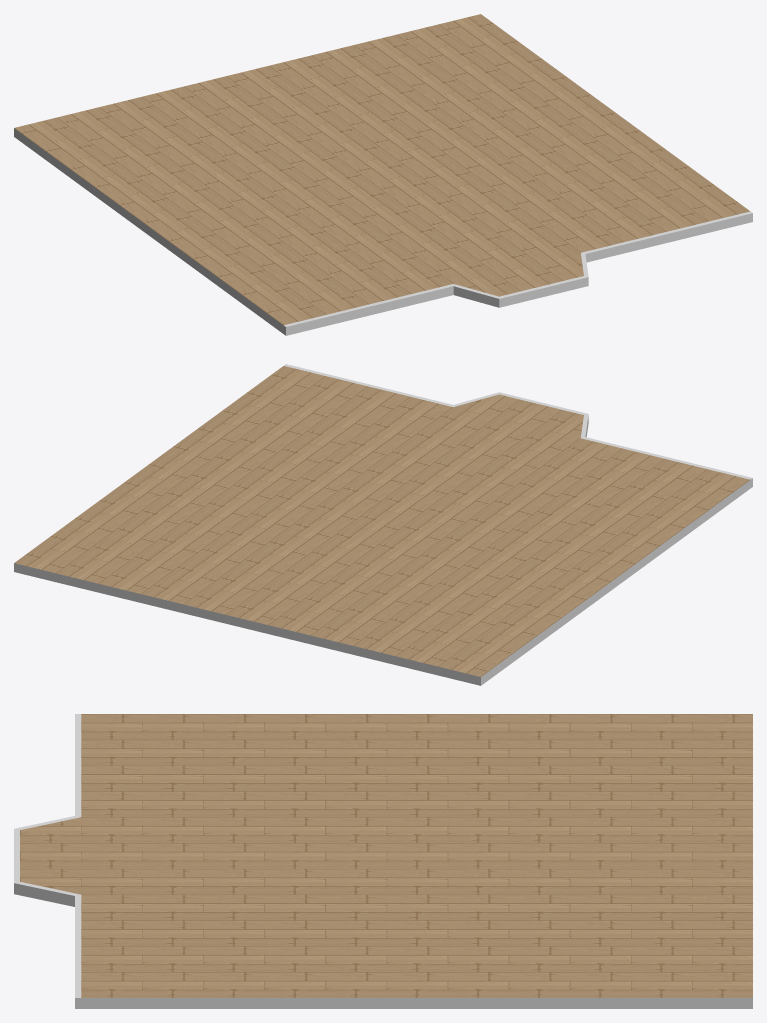
Rendered from Room_linoleum04.FBX.
The picture shows the model from 3 angles, top to bottom: view 1: azimuth 30°, elevation 25°; view 2: azimuth 150°, elevation 25°; view 3: azimuth 270°, elevation 25°; orthographic projection. The views are drawn at different scales.
Parts seen in each view (by area): view 1: Room_linoleum04_out, Room_linoleum04, 001, 007, 016, 026, 029, 039, 054, 061, 080, 008 (+114 smaller); view 2: Room_linoleum04_out, Room_linoleum04, 016, 017, 061, 080, 095, 117, 004, 005, 008, 010 (+114 smaller); view 3: Room_linoleum04_out, Room_linoleum04, 068, 069, 070, 074, 075, 024, 026, 031, 035, 037 (+114 smaller).
Part boxes in pixels (<box>): Room_linoleum04_out: <box>14,128,752,335</box>; Room_linoleum04: <box>284,211,752,326</box>; 001: <box>14,117,80,145</box>; 007: <box>269,55,335,83</box>; 016: <box>208,94,274,122</box>; 026: <box>190,122,256,150</box>; 029: <box>318,91,384,119</box>; 039: <box>300,119,366,147</box>; 054: <box>494,96,560,124</box>; 061: <box>349,155,415,183</box>; 080: <box>270,222,336,250</box>; 008: <box>311,45,377,73</box>; Room_linoleum04_out: <box>14,415,752,685</box>; Room_linoleum04: <box>284,364,752,479</box>; 016: <box>293,589,359,617</box>; 017: <box>251,579,317,607</box>; 061: <box>349,507,415,535</box>; 080: <box>525,502,591,530</box>; 095: <box>380,443,446,471</box>; 117: <box>429,407,495,435</box>; 004: <box>311,618,377,645</box>; 005: <box>269,607,335,635</box>; 008: <box>141,576,207,604</box>; 010: <box>56,555,122,583</box>; Room_linoleum04_out: <box>14,883,752,1008</box>; Room_linoleum04: <box>14,714,81,997</box>; 068: <box>325,739,386,765</box>; 069: <box>325,765,386,791</box>; 070: <box>325,791,386,817</box>; 074: <box>325,894,386,920</box>; 075: <box>325,920,386,946</box>; 024: <box>569,739,630,765</box>; 026: <box>569,791,630,817</box>; 031: <box>569,920,630,946</box>; 035: <box>508,739,569,765</box>; 037: <box>508,791,569,817</box>.
Size of the model in its own units: 11 by 0.2 by 12.1.
